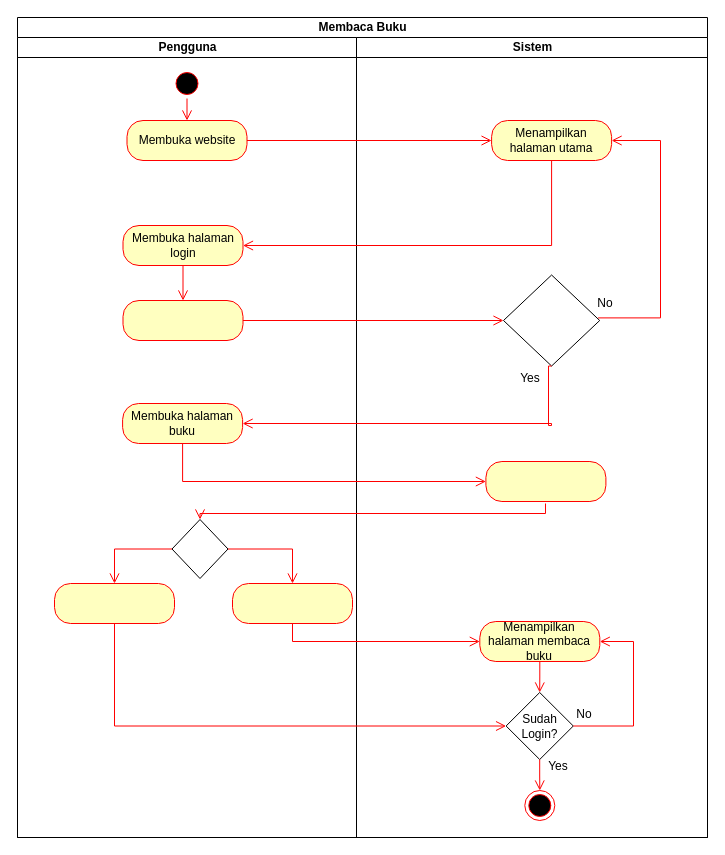
Some shapes in this 725 by 855 pixel diagram are drawn without their labels. The shapes that lost their labels are listed below. From the top down, each one's centre as x and y in pixels, then its label:
(182,320): Mengisi data login
(551,320): Memverifikasi login
(545,481): Menampilkan halaman buku
(114,603): Mengunduh buku
(292,603): Mengklik tombol "Baca Buku"
